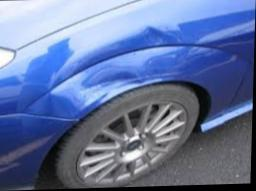Fender: (29, 38, 150, 120)
